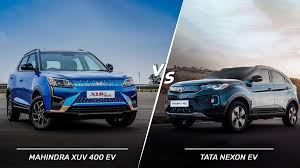XUV 400: (4, 45, 143, 136)
